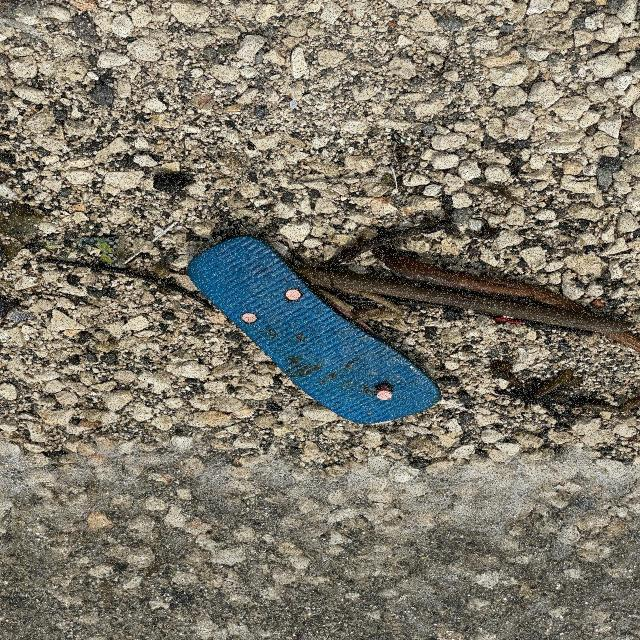rubber_waste: (189, 240, 444, 427)
